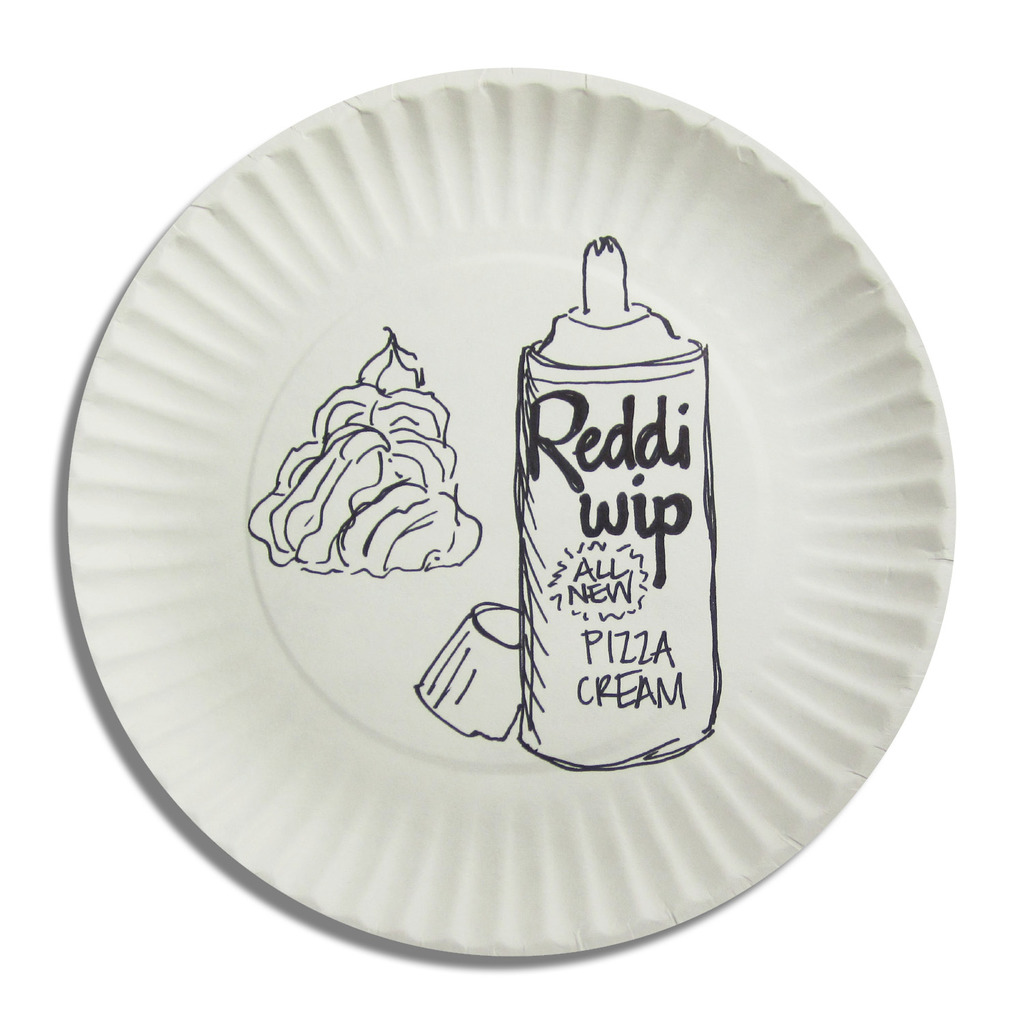plate: (63, 64, 953, 963)
